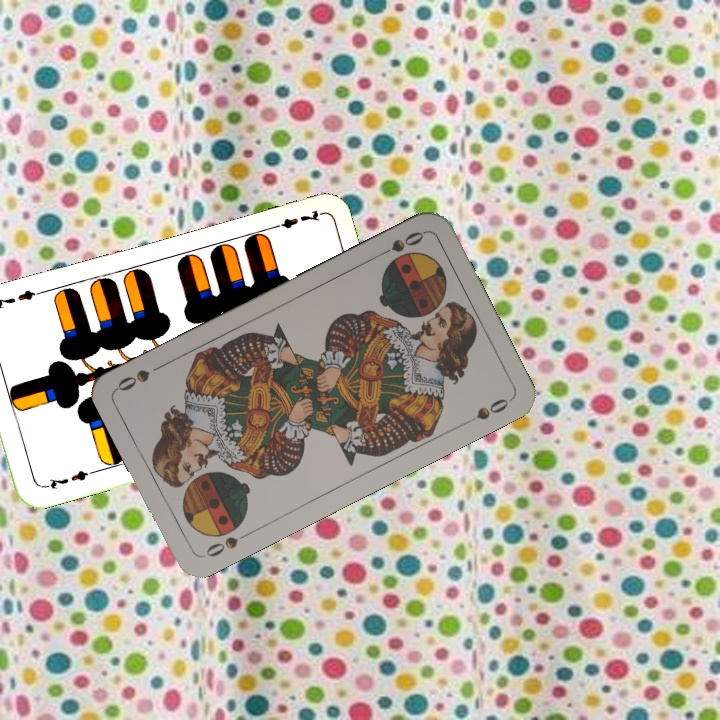E7: (266, 205, 324, 233), (38, 466, 96, 492)
SO: (372, 227, 427, 261), (199, 527, 254, 560)
